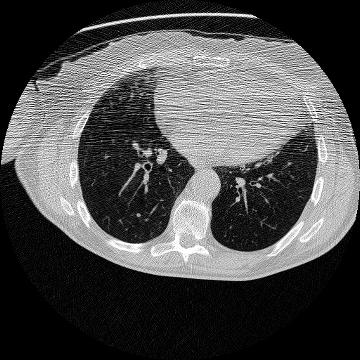nodule: (137, 213, 141, 217)
